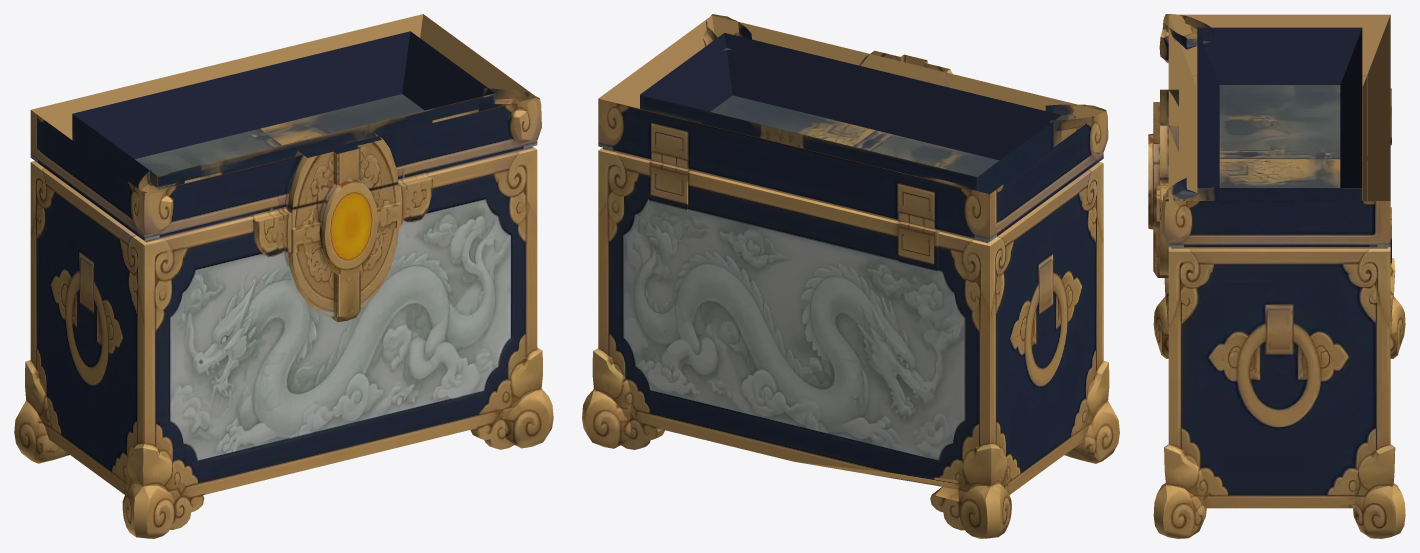
File: SM_Prop_ChestLegendaryBody.glb
3 renders of one model, left to right at view 1: azimuth 30°, elevation 25°; view 2: azimuth 150°, elevation 25°; view 3: azimuth 270°, elevation 25°, orthographic. The views are drawn at different scales.
Visible parts, largest first — view 1: SM_Prop_ChestLegendaryBody_LOD0; view 2: SM_Prop_ChestLegendaryBody_LOD0; view 3: SM_Prop_ChestLegendaryBody_LOD0.
Part boxes in pixels (x1,y1,x2,y2): SM_Prop_ChestLegendaryBody_LOD0: (14,14,553,538); SM_Prop_ChestLegendaryBody_LOD0: (582,14,1119,538); SM_Prop_ChestLegendaryBody_LOD0: (1148,14,1405,538).
Size of the model in its own units: 0.8466 by 0.667 by 0.4624.
1 material, 1 textured.
